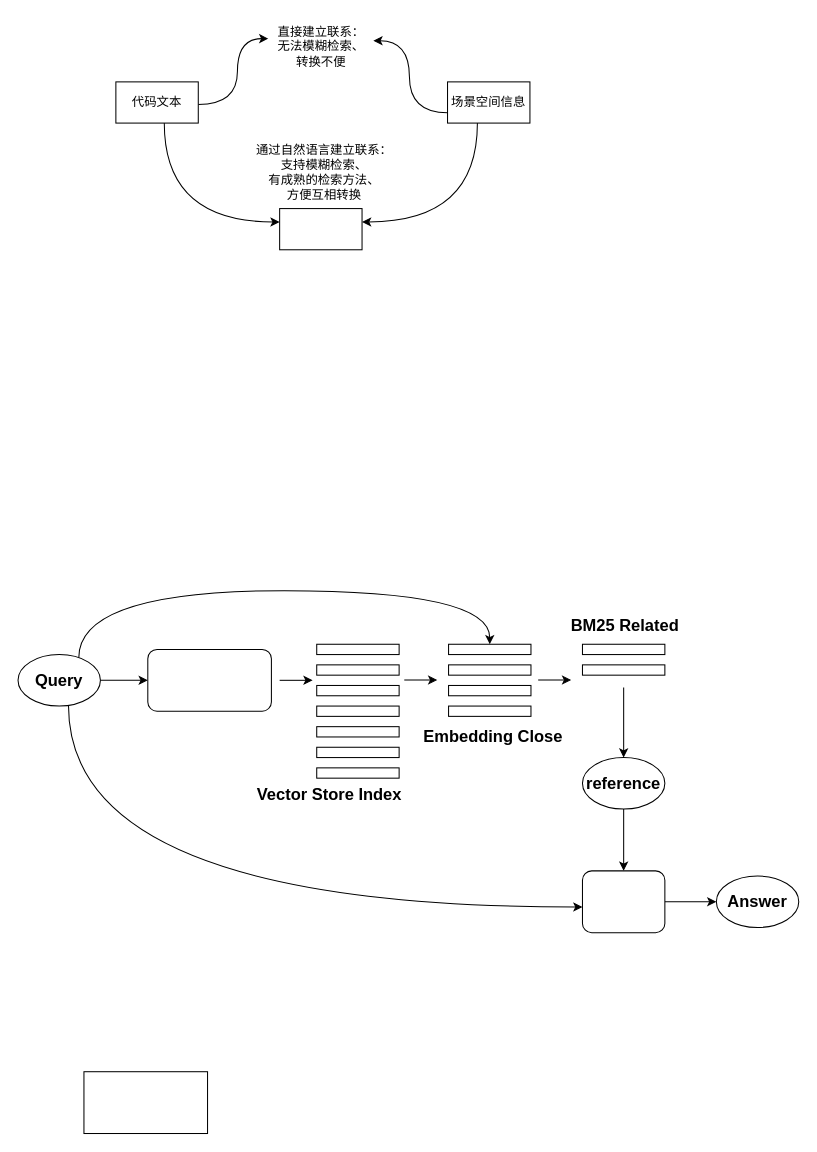
Some shapes in this 817 by 1152 pixel diagram are drawn without their labels. Each missing label, with the centre of its shape:
Embedding Model: the point at 209,679
LLM: the point at 623,901
自然语言: the point at 320,229
